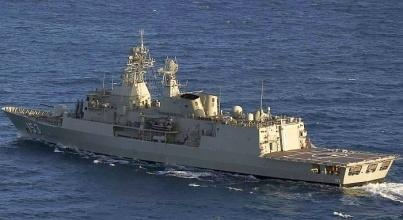warship: (1, 28, 381, 186)
